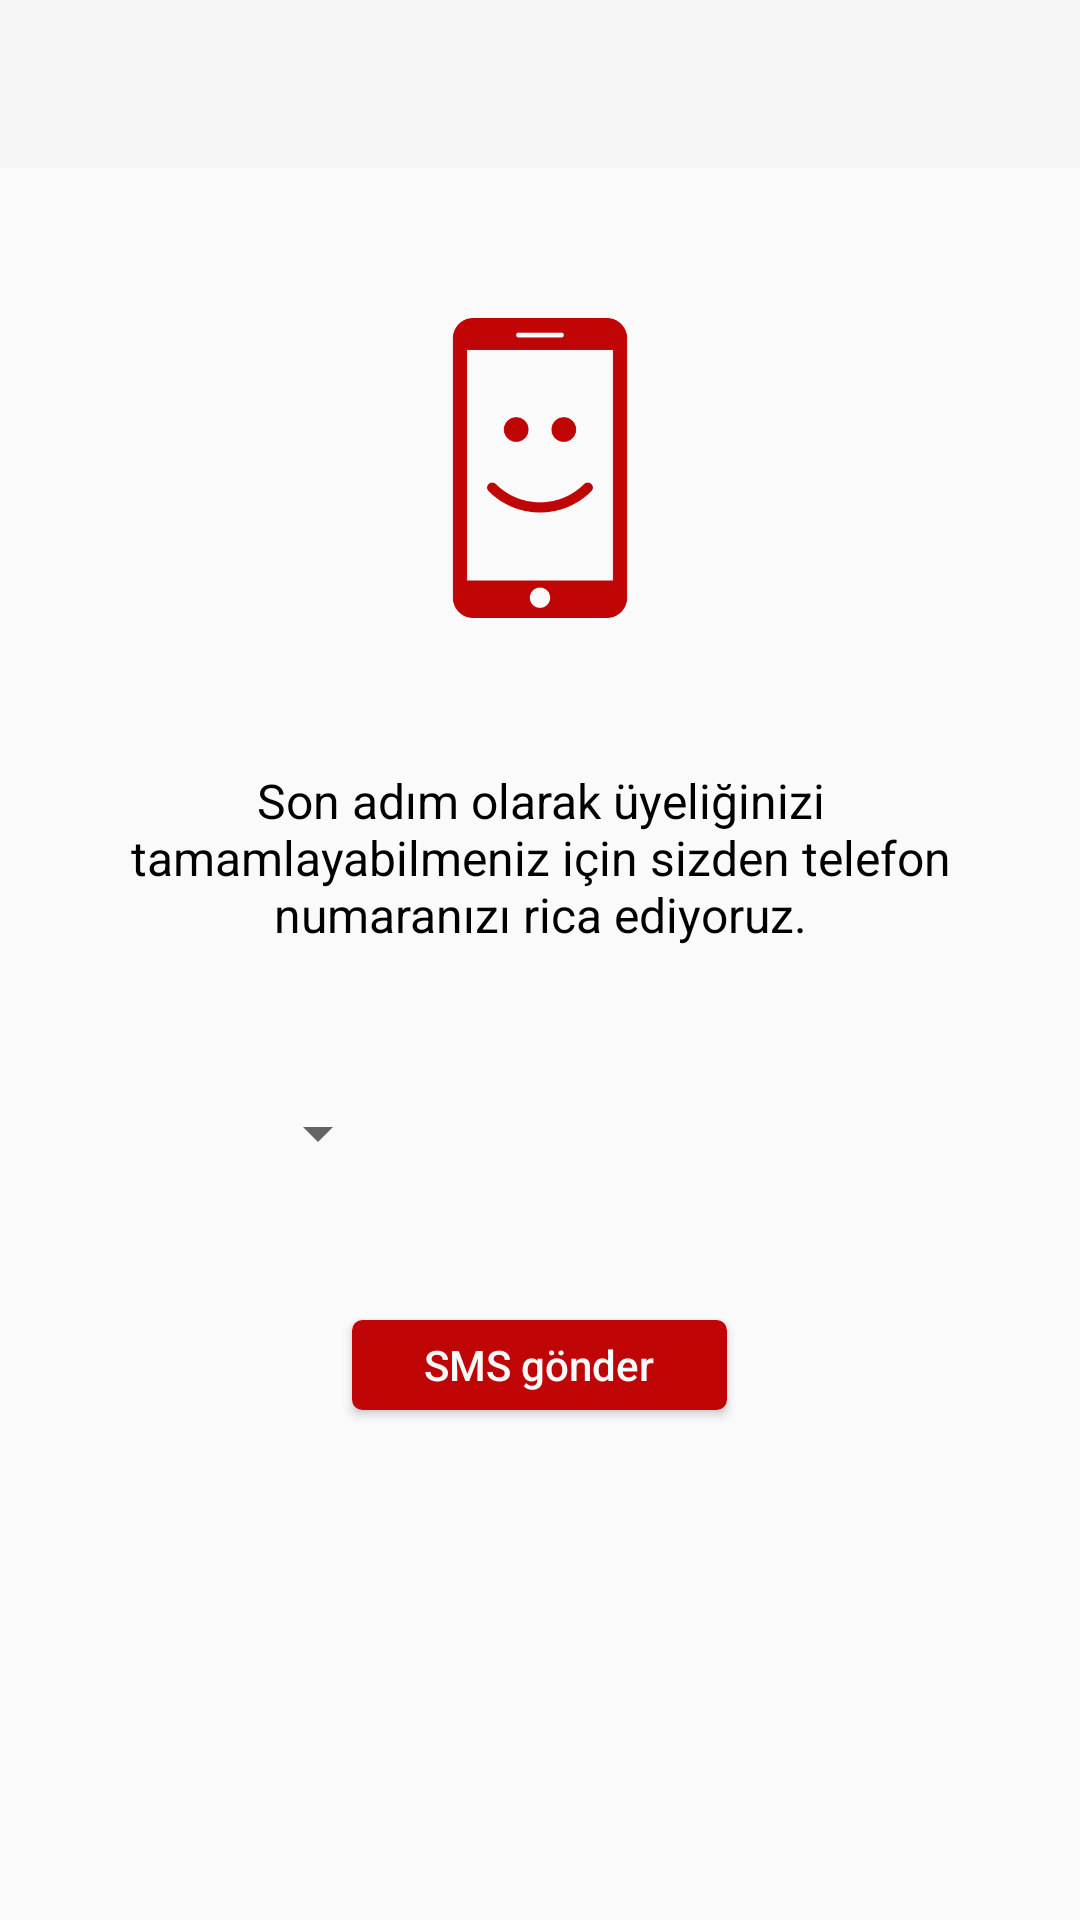

Icon bounding boxes for this 1080w x 1920h phone screenshot, format [x1,y1,x2,y2]:
smartphone with smile: [452,318,628,618]
